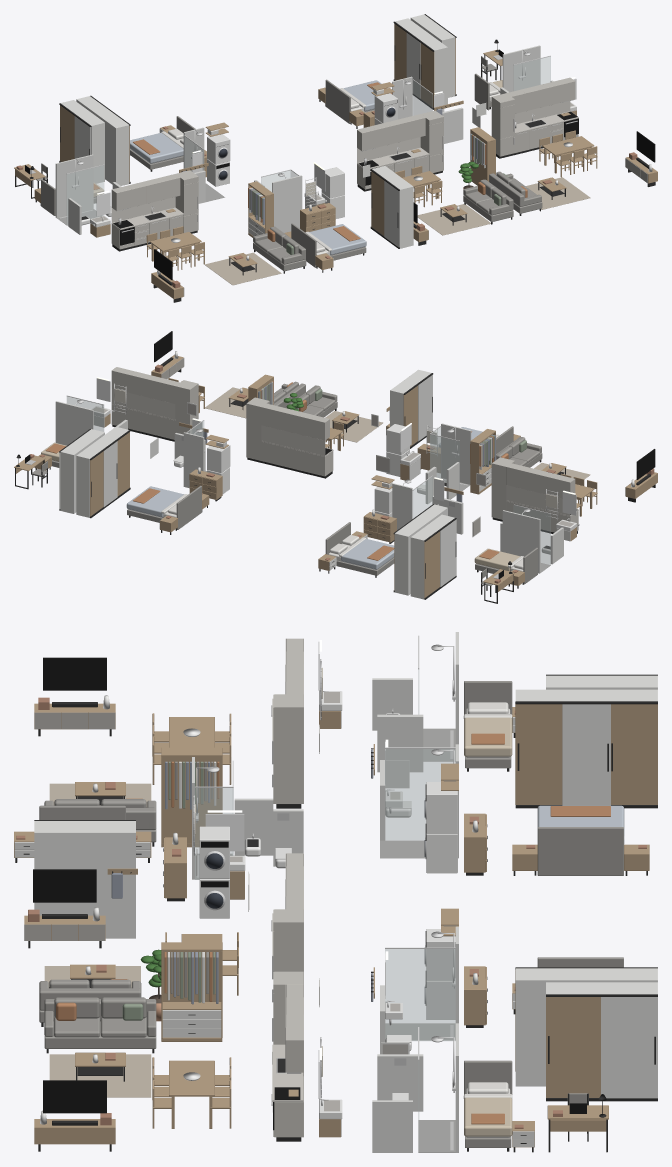
The model's file is arredo_tipo.glb.
The picture shows the model from 3 angles, top to bottom: view 1: azimuth 30°, elevation 25°; view 2: azimuth 150°, elevation 25°; view 3: azimuth 270°, elevation 25°; orthographic projection. The views are drawn at different scales.
Parts seen in each view (by area): view 1: arredo_P1; view 2: arredo_P1; view 3: arredo_P1.
Part boxes in pixels (bbox=[...]): arredo_P1: bbox=[14, 14, 657, 302]; arredo_P1: bbox=[14, 331, 657, 603]; arredo_P1: bbox=[14, 632, 657, 1152].
Bounding box in the file's own units: 19.8 × 2.3 × 12.67.
